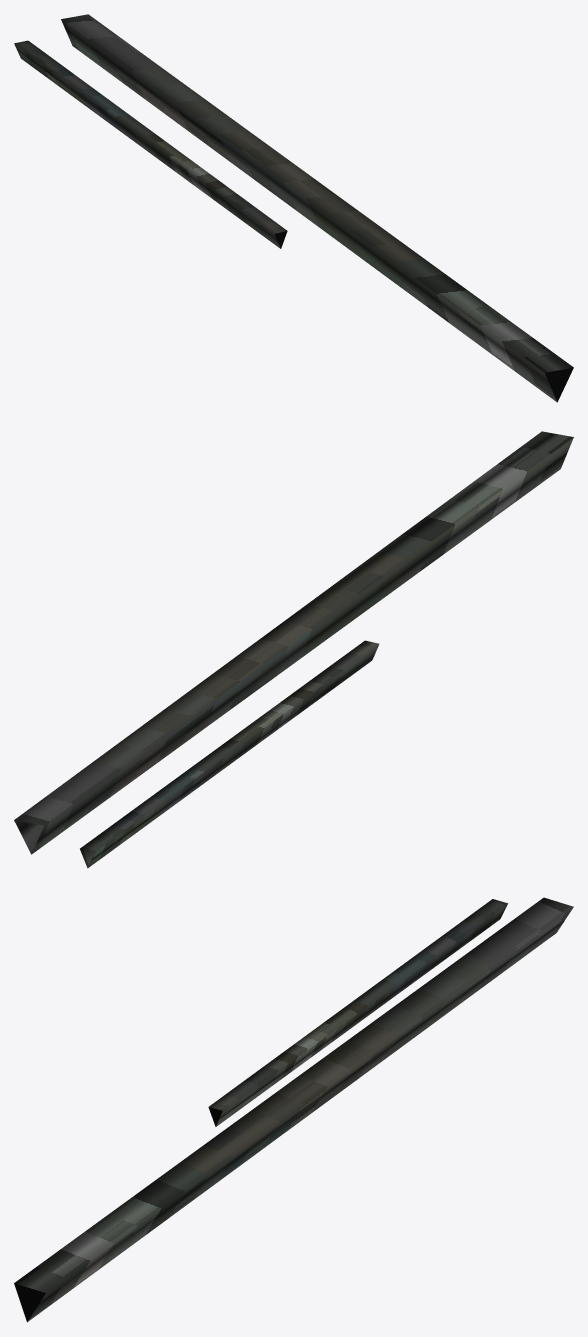
Rendered from bwing_weapon2l_s01_l3.fbx.
The picture shows the model from 3 angles, top to bottom: view 1: azimuth 30°, elevation 25°; view 2: azimuth 150°, elevation 25°; view 3: azimuth 330°, elevation 25°; orthographic projection. The views are drawn at different scales.
Parts seen in each view (by area): view 1: mesh_node; view 2: mesh_node; view 3: mesh_node.
Part boxes in pixels (x1,y1,x2,y2): mesh_node: (14, 14, 573, 402); mesh_node: (14, 431, 573, 868); mesh_node: (14, 897, 573, 1322).
Size of the model in its own units: 0.2239 by 0.0925 by 2.49.
1 material, 1 textured.
